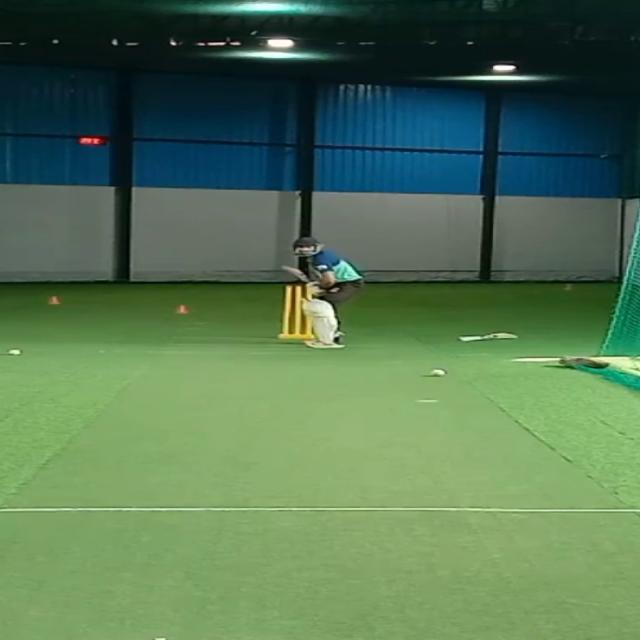ball: (0, 342, 31, 362), (421, 364, 449, 382)
stump: (275, 278, 308, 343)
